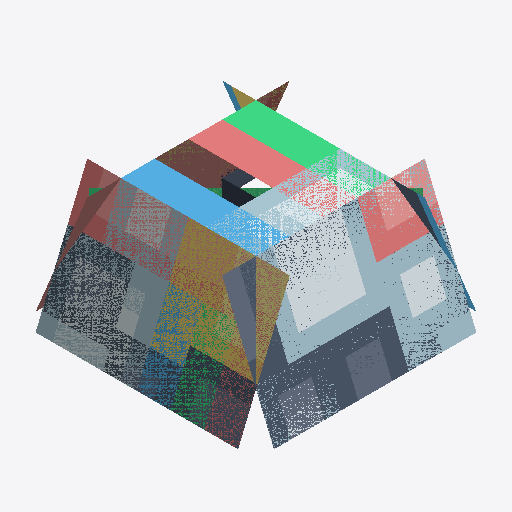
Isometric view (azimuth 45°, elevation 35.3°) of a Minecraft model made of 9 cuboids, textured from the same repository.
Visible parts, largest first — element 4, element 5, element 2, element 3, element 6, element 1.
Boxes of the visible parts, <box> form: element 4: <box>36,159,289,448</box>; element 5: <box>222,159,475,448</box>; element 2: <box>122,100,389,255</box>; element 3: <box>36,81,288,310</box>; element 6: <box>223,81,475,310</box>; element 1: <box>222,169,255,206</box>.
Bounding box in the file's own units: 28.25 × 16 × 28.25.